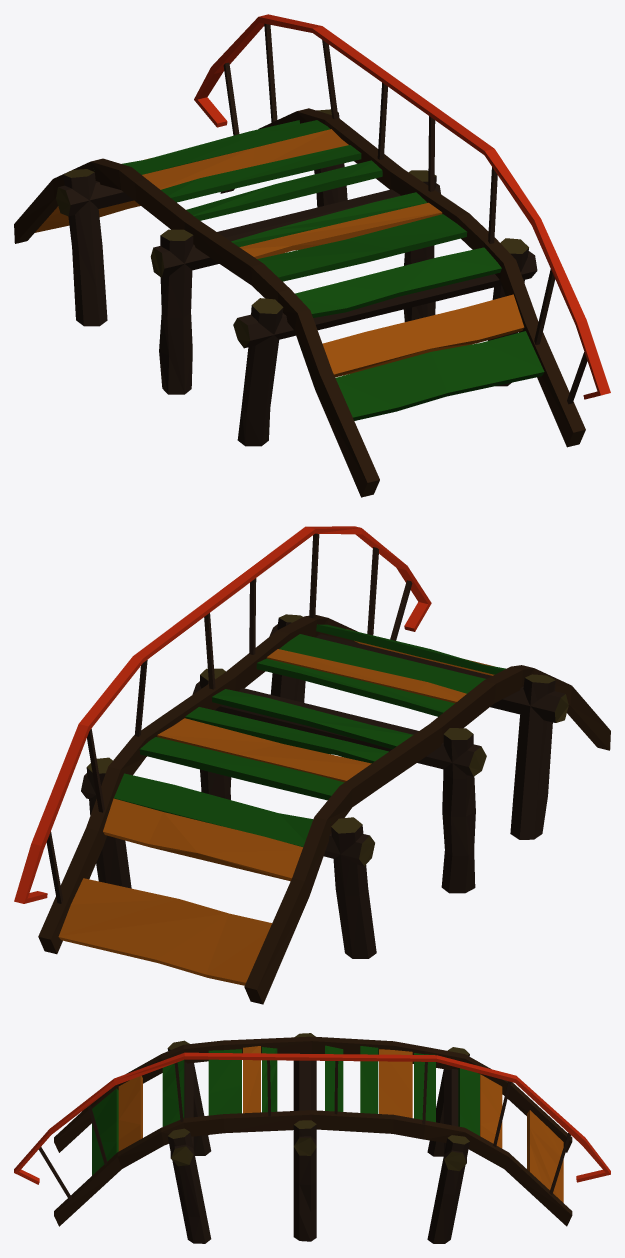
File: brige old b.FBX
3 views of the same model, one above another, from view 1: azimuth 30°, elevation 25°; view 2: azimuth 150°, elevation 25°; view 3: azimuth 270°, elevation 25° (orthographic). The views are drawn at different scales.
Parts seen in each view (by area): view 1: brige old b; view 2: brige old b; view 3: brige old b.
Boxes of the visible parts, <box> form: brige old b: <box>14,14,610,497</box>; brige old b: <box>14,526,610,1004</box>; brige old b: <box>14,1033,610,1243</box>.
Size of the model in its own units: 641 by 513 by 1558.
